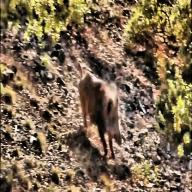boar: (73, 63, 124, 158)
